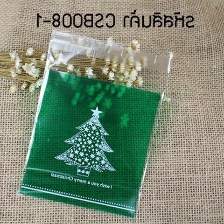snack: (11, 23, 182, 223)
